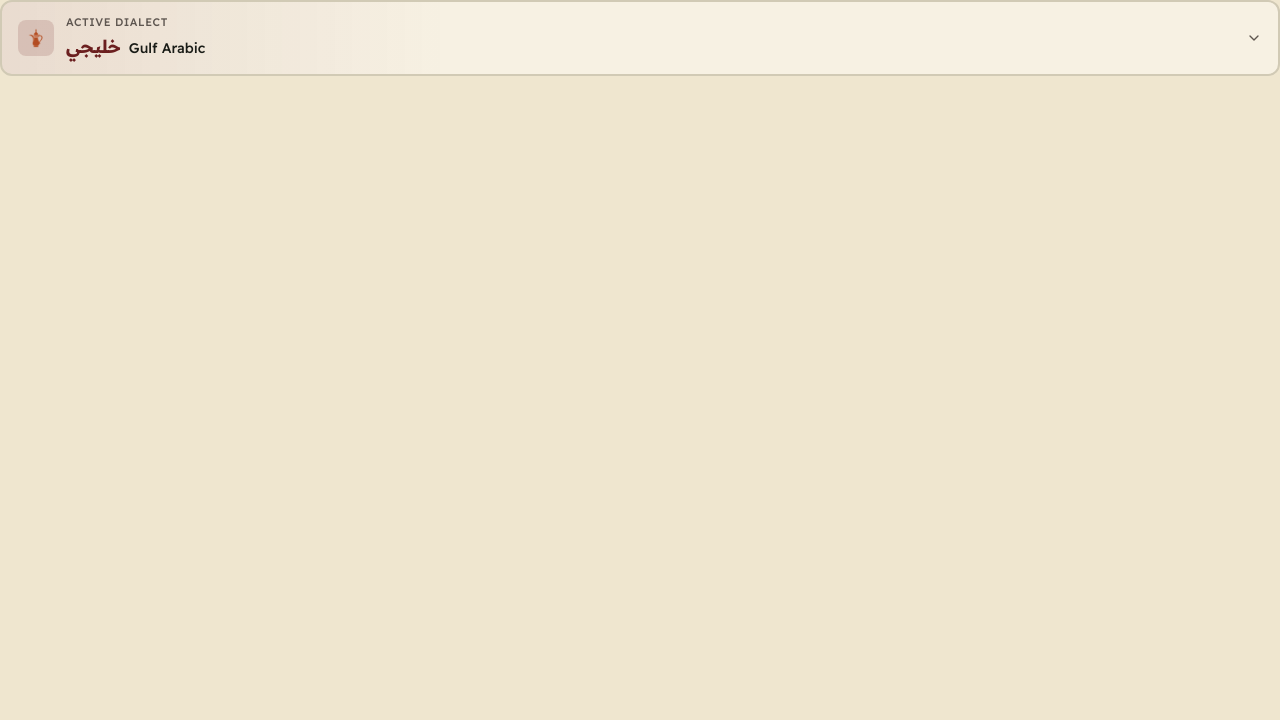
Scenario: opening the picker › offers all three dialects with something to choose between them
Click the button with aria-label "active dialect:" at (36, 38), box [0,0,1279,76]
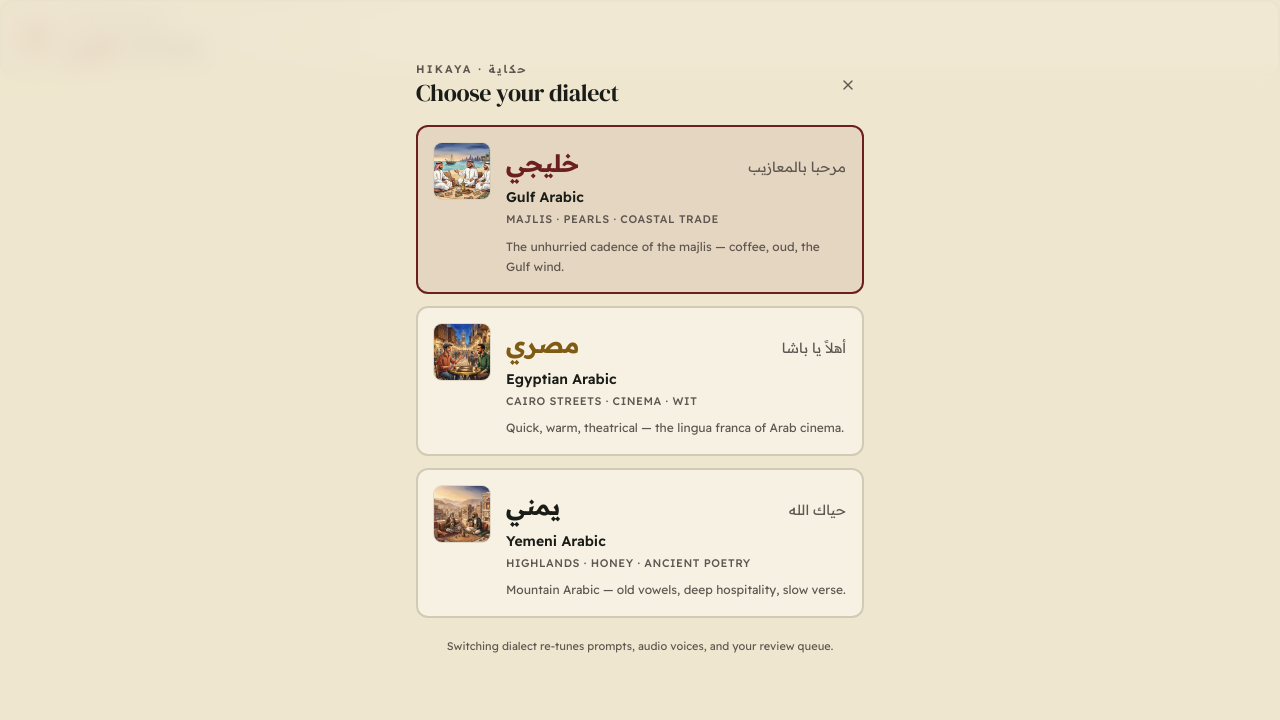
Result: the dialog named "choose dialect" is shown
Result: the text "unhurried cadence of the majlis" is shown at [506,239,820,274]
Result: the text "Quick, warm, theatrical — the lingua franca of Arab cinema." is shown at [506,418,846,438]
